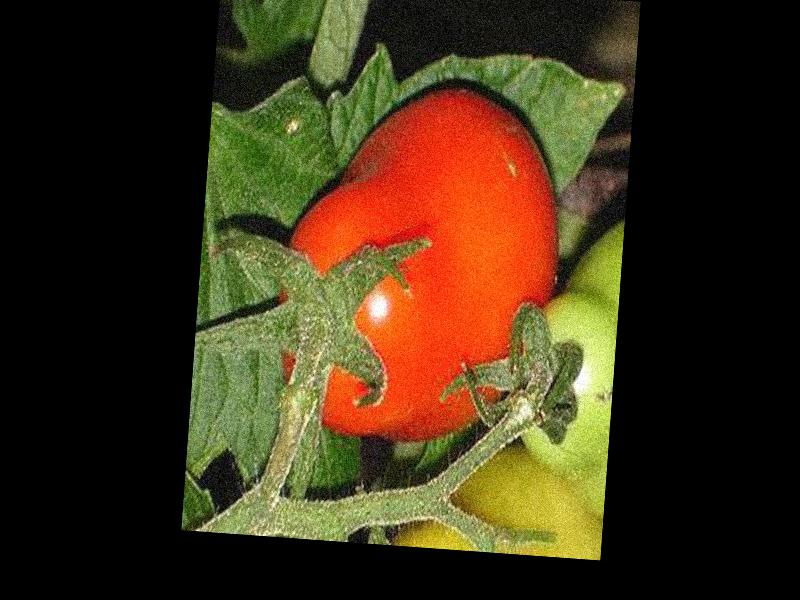Tomato: (271, 75, 568, 448)
